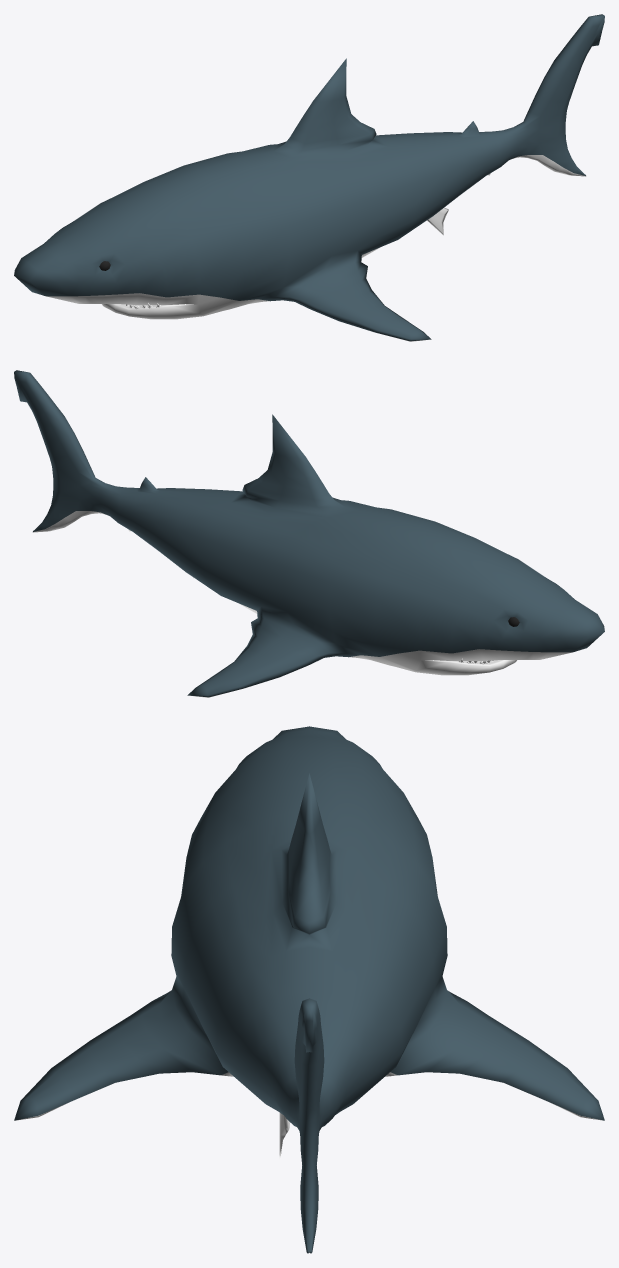
Rendered from Shark_002.glb.
The picture shows the model from 3 angles, top to bottom: view 1: azimuth 30°, elevation 25°; view 2: azimuth 150°, elevation 25°; view 3: azimuth 270°, elevation 25°; orthographic projection. The views are drawn at different scales.
Visible parts, largest first — view 1: Shark_002; view 2: Shark_002; view 3: Shark_002.
Part boxes in pixels (x1,y1,x2,y2): Shark_002: (14, 14, 604, 341); Shark_002: (14, 370, 604, 697); Shark_002: (14, 726, 604, 1253).
Size of the model in its own units: 4.67 by 1.62 by 2.47.
1 material, 1 textured.
